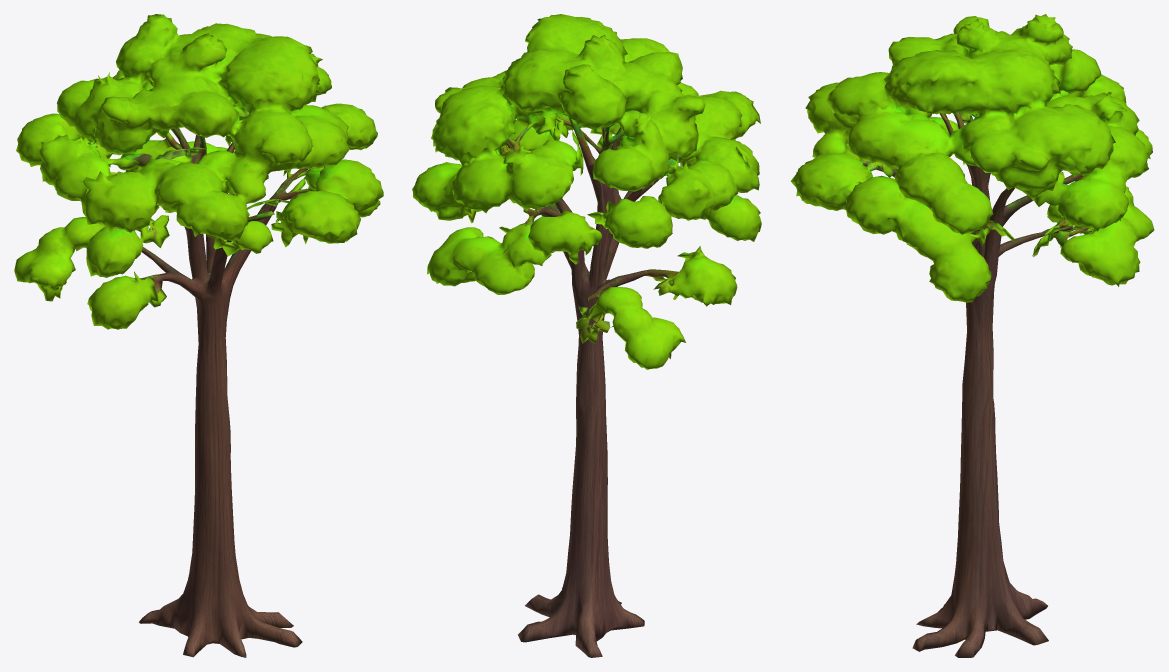
File: poplar_turkey.glb
The picture shows the model from 3 angles, left to right: view 1: azimuth 30°, elevation 25°; view 2: azimuth 150°, elevation 25°; view 3: azimuth 270°, elevation 25°; orthographic projection. The views are drawn at different scales.
Bounding box in the file's own units: 1 × 1.91 × 1.05.
1 material, 1 textured.
